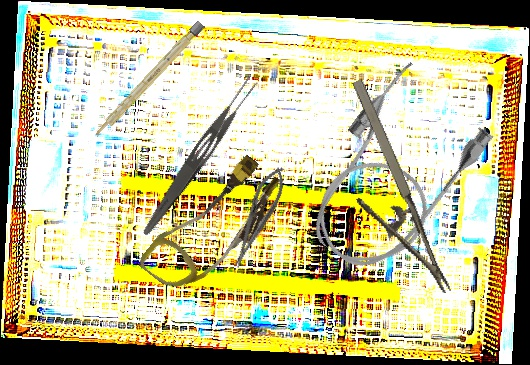Cannula: (284, 55, 501, 289), (136, 142, 292, 311)
Dressing Forceps: (138, 72, 262, 242)
Needle Holder: (316, 76, 452, 311), (223, 161, 293, 273)
Scalpel Handle: (92, 20, 206, 140)
